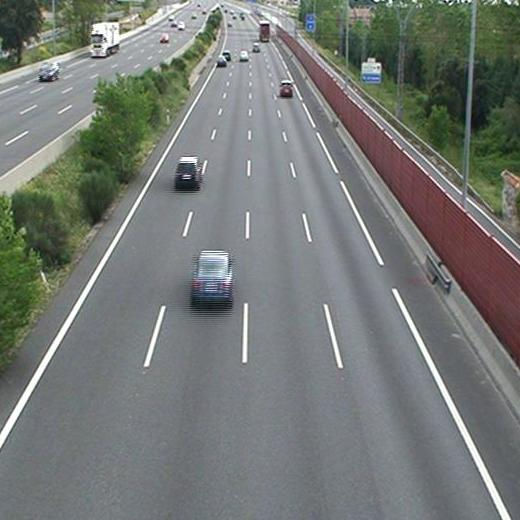car: (192, 250, 232, 300), (176, 158, 200, 185), (279, 81, 294, 96), (216, 55, 227, 67), (239, 50, 250, 60), (251, 42, 260, 52)
truck: (260, 21, 270, 42)
